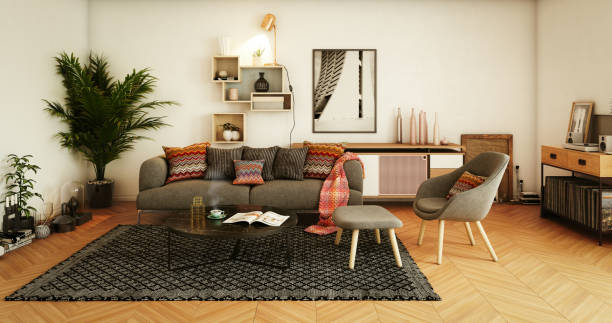chair: (410, 151, 511, 265)
large plant: (43, 52, 170, 207), (1, 151, 42, 230)
sofa: (134, 139, 366, 224)
table: (166, 209, 299, 276)
table lamp: (258, 12, 283, 67)
wall art: (310, 47, 378, 134)
